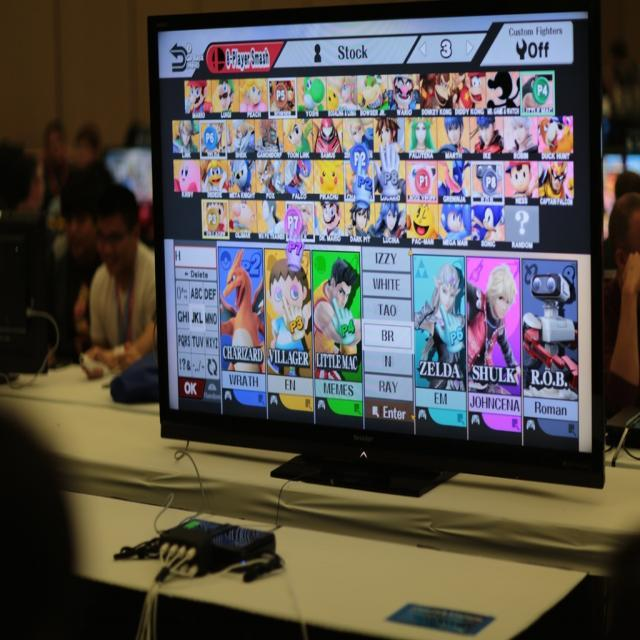others: (126, 7, 627, 503)
